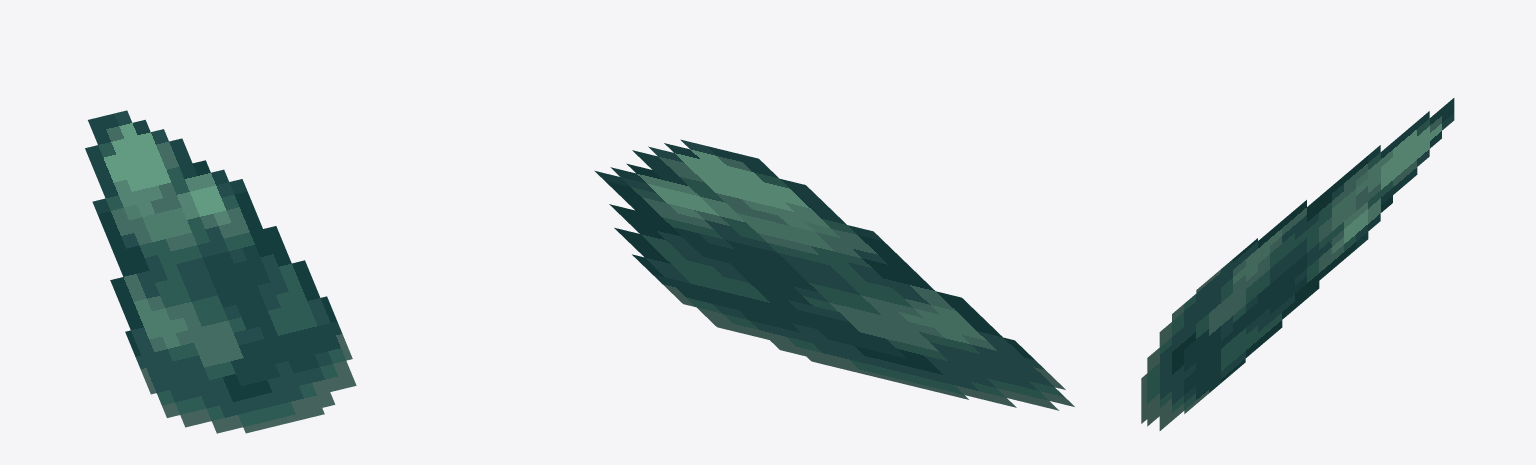
Rendered from cave-stalagmite.glb.
3 views of the same model, side by side, from view 1: azimuth 30°, elevation 25°; view 2: azimuth 150°, elevation 25°; view 3: azimuth 270°, elevation 25° (orthographic). The views are drawn at different scales.
Visible parts, largest first — view 1: cave-stalagmite; view 2: cave-stalagmite; view 3: cave-stalagmite.
Boxes of the visible parts, <box> form: cave-stalagmite: <box>85,110,356,433</box>; cave-stalagmite: <box>594,139,1074,410</box>; cave-stalagmite: <box>1141,98,1454,430</box>.
Size of the model in its own units: 16 by 21.11 by 22.55.
Materials: 1 (1 with a texture image).
